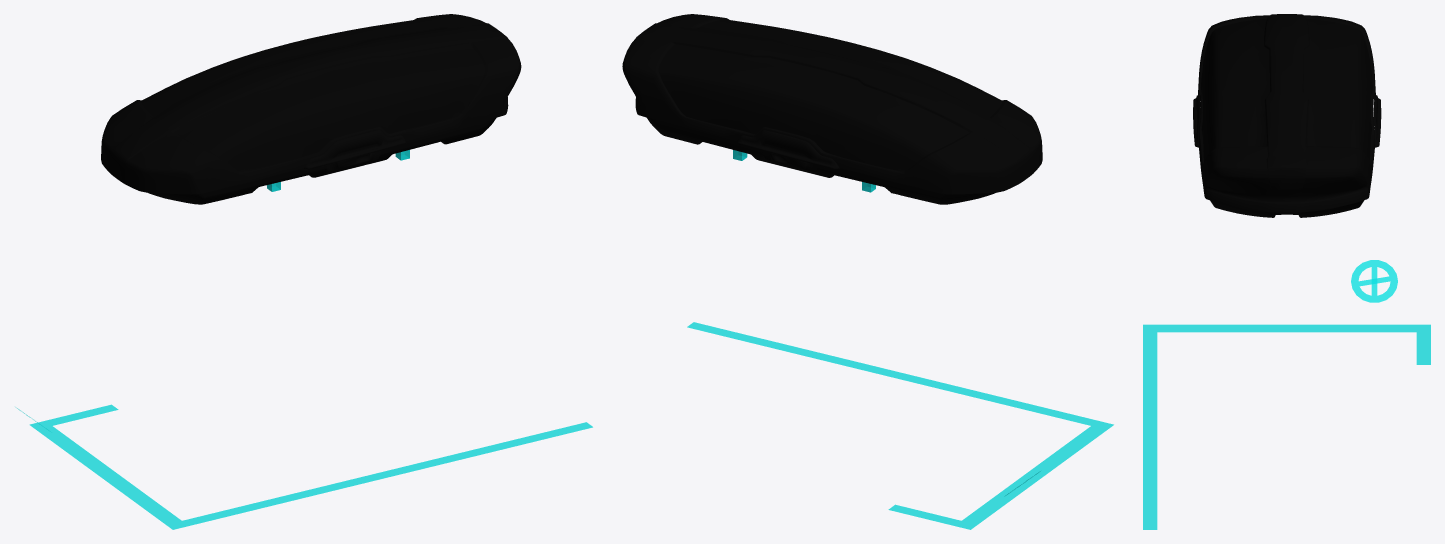
Rendered from Ltype.glb.
3 views of the same model, side by side, from view 1: azimuth 30°, elevation 25°; view 2: azimuth 150°, elevation 25°; view 3: azimuth 270°, elevation 25° (orthographic).
Visible parts, largest first — view 1: XT_XL_low, Tube001; view 2: XT_XL_low, Tube001; view 3: XT_XL_low, Tube001.
Part boxes in pixels (bbox=[...]): XT_XL_low: bbox=[101, 14, 521, 204]; Tube001: bbox=[15, 404, 592, 529]; XT_XL_low: bbox=[622, 14, 1042, 204]; Tube001: bbox=[687, 322, 1113, 529]; XT_XL_low: bbox=[1193, 14, 1381, 217]; Tube001: bbox=[1143, 260, 1430, 529].
Bounding box in the file's own units: 2.57 × 1.95 × 1.39.
Materials: 3 (2 with a texture image).
